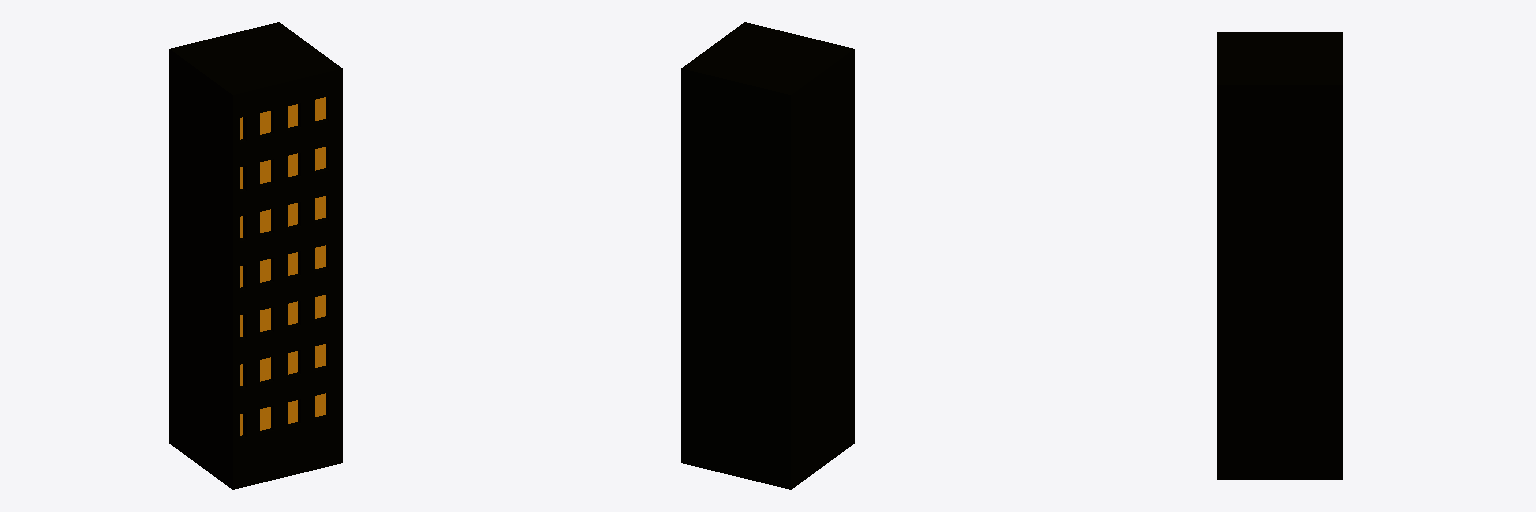
File: building.obj
The picture shows the model from 3 angles: view 1: azimuth 30°, elevation 25°; view 2: azimuth 150°, elevation 25°; view 3: azimuth 270°, elevation 25°; orthographic projection.
Visible parts, largest first — view 1: Cube; view 2: Cube; view 3: Cube.
Boxes of the visible parts, x1=… form: Cube: x1=169, y1=22, x2=342, y2=489; Cube: x1=681, y1=22, x2=854, y2=489; Cube: x1=1217, y1=32, x2=1342, y2=479.
Bounding box in the file's own units: 4.68 × 16.09 × 4.68.